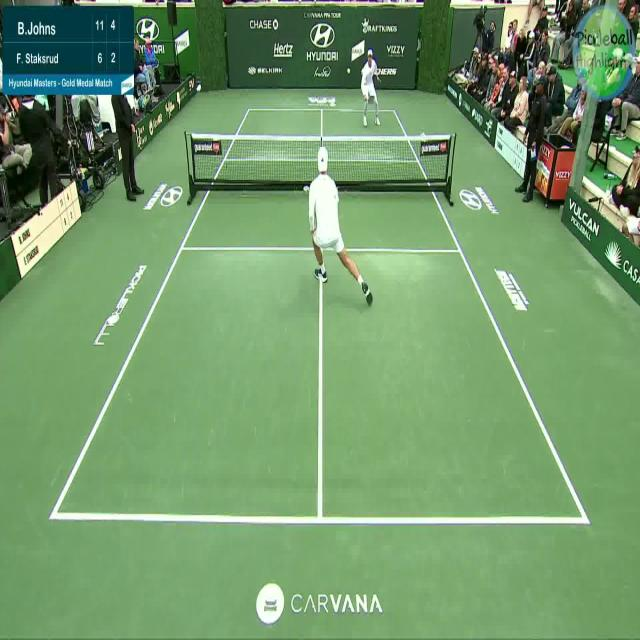Court: (55, 108, 587, 521)
ball: (347, 62, 352, 84)
